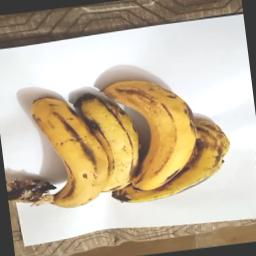Banana Unripe: (1, 89, 114, 216), (100, 70, 203, 196), (75, 84, 147, 198), (182, 100, 238, 182), (104, 166, 213, 206)
